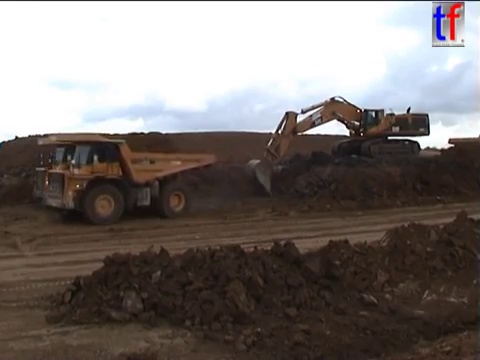excavator: (243, 94, 432, 196)
truck: (40, 132, 216, 225), (30, 135, 202, 222), (446, 133, 480, 158)
